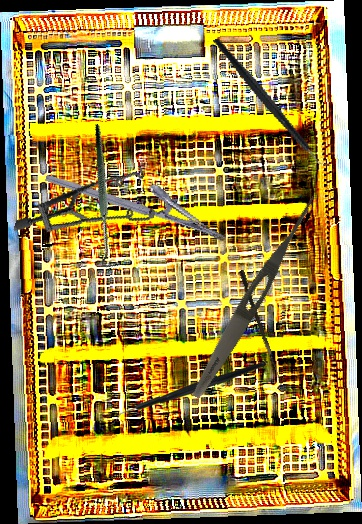Chopper: (212, 16, 334, 189), (111, 357, 266, 430)
Dressing Forceps: (186, 190, 322, 403)
Hook Surgical: (44, 123, 169, 273), (236, 269, 290, 392)
Needle Holder: (44, 149, 235, 244)
Speculum: (12, 133, 169, 273)
